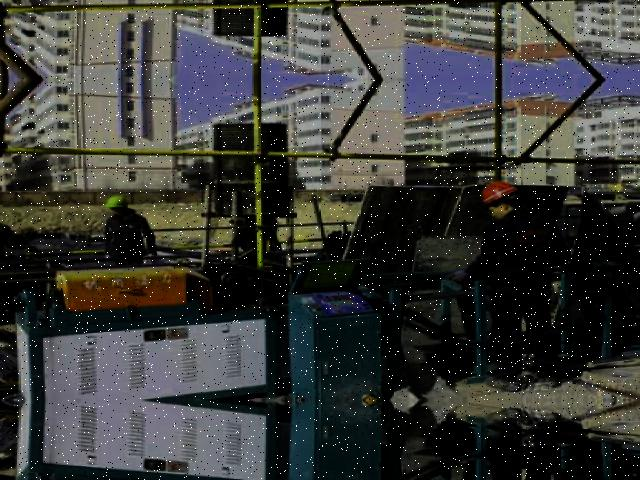Helmet: (473, 180, 519, 208), (98, 193, 133, 208)
